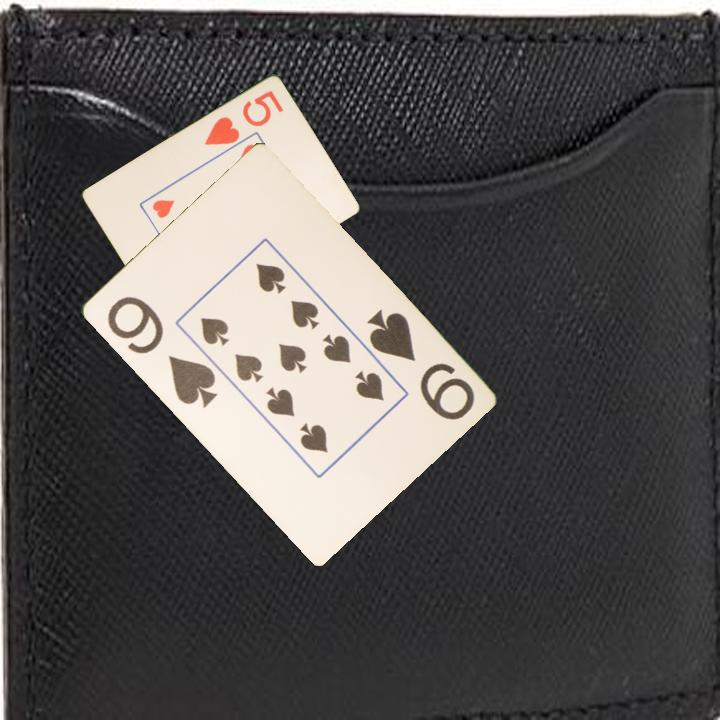5h: (200, 87, 286, 149)
9s: (103, 292, 220, 411), (362, 305, 477, 424)
